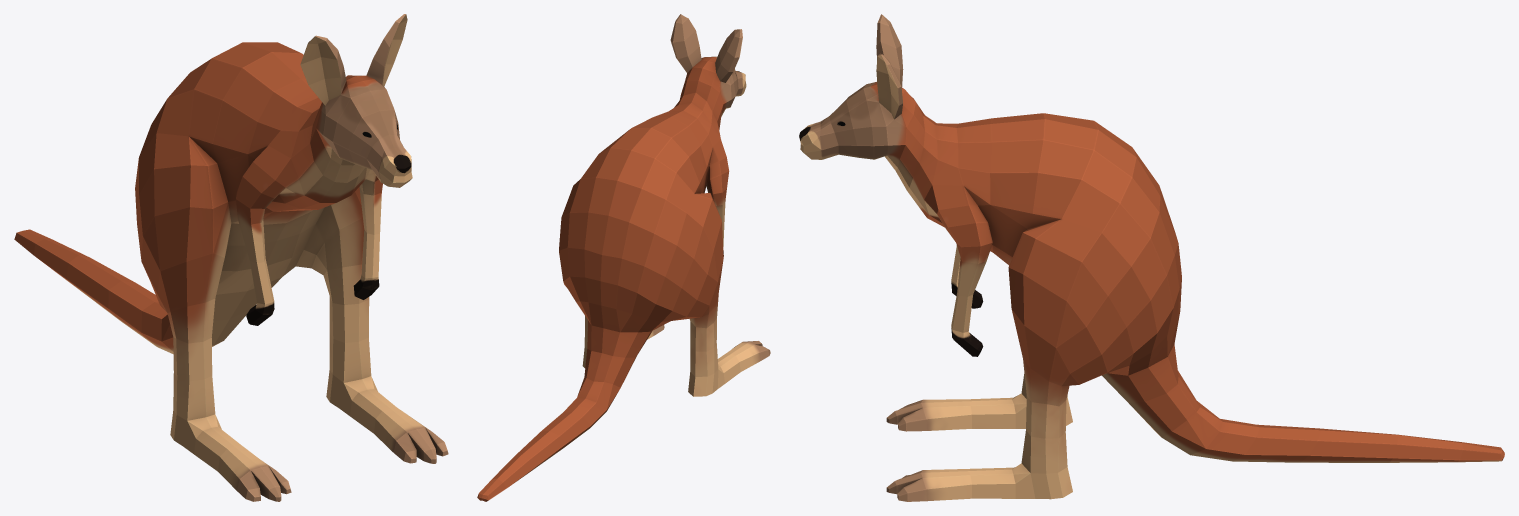
File: 868eeb09-9d7b-4507-82d9-509b7e84b38e.glb
3 views of the same model, side by side, from view 1: azimuth 30°, elevation 25°; view 2: azimuth 150°, elevation 25°; view 3: azimuth 270°, elevation 25° (orthographic). The views are drawn at different scales.
Parts seen in each view (by area): view 1: RedKangaroo_Mesh; view 2: RedKangaroo_Mesh; view 3: RedKangaroo_Mesh.
Boxes of the visible parts, x1,y1,x2,y2 form: RedKangaroo_Mesh: (14, 14, 448, 501); RedKangaroo_Mesh: (477, 14, 770, 501); RedKangaroo_Mesh: (799, 14, 1504, 501).
Bounding box in the file's own units: 3.95 × 8.26 × 12.4.
1 material, 1 textured.
